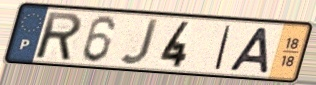4: (157, 20, 192, 69)
6: (81, 13, 118, 65)
A: (226, 26, 271, 76)
I: (212, 24, 234, 72)
J: (118, 17, 161, 67)
R: (35, 10, 84, 63)
